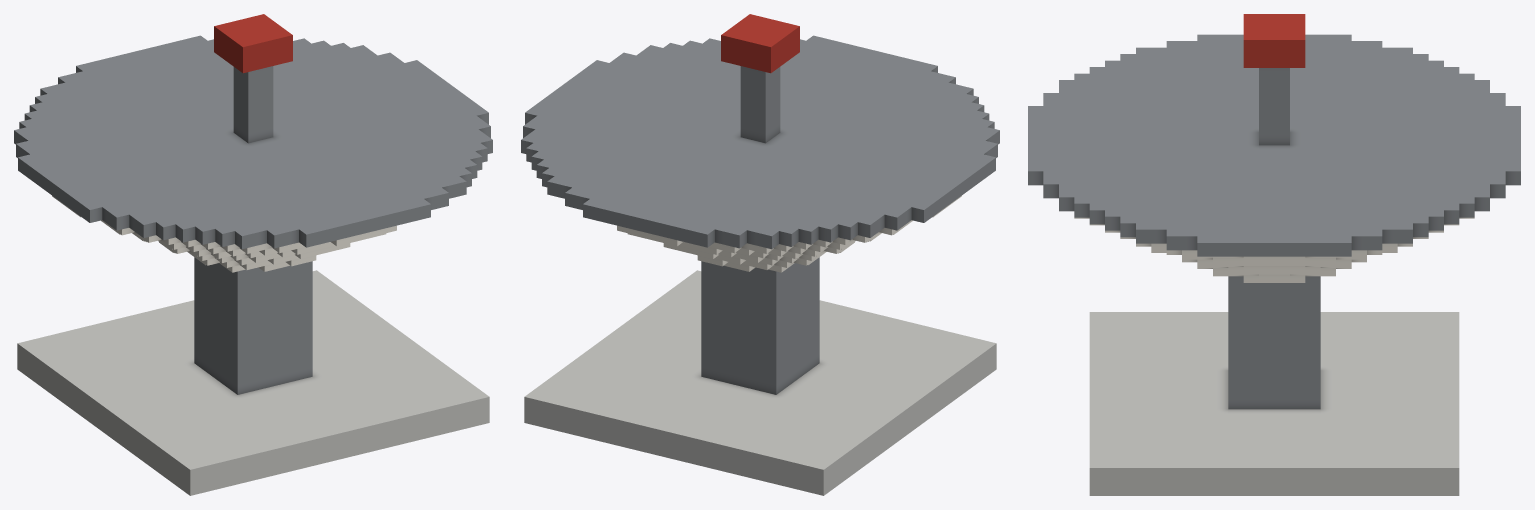
File: w_dish.glb
The picture shows the model from 3 angles, left to right: view 1: azimuth 30°, elevation 25°; view 2: azimuth 150°, elevation 25°; view 3: azimuth 270°, elevation 25°; orthographic projection. The views are drawn at different scales.
Visible parts, largest first — view 1: w_dish_body; view 2: w_dish_body; view 3: w_dish_body.
Boxes of the visible parts, <box> form: w_dish_body: <box>14,14,492,495</box>; w_dish_body: <box>521,14,999,495</box>; w_dish_body: <box>1028,14,1520,495</box>.
Size of the model in its own units: 2 by 1.75 by 2.
Materials: 1 (1 with a texture image).
